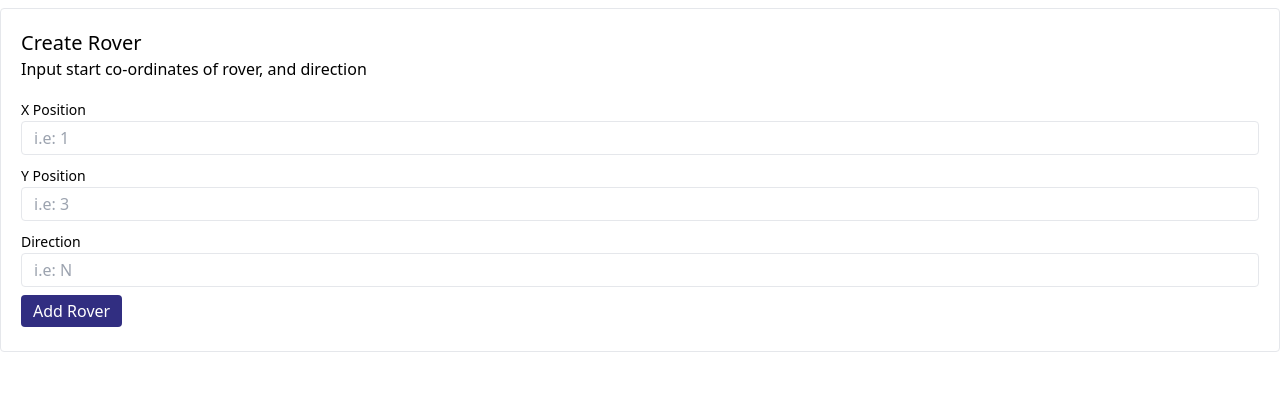
Test case: <RoverForm /> › shows an error message when no X position has been provided and "Add Rover" is clicked
The width and height of the screenshot is (1280, 415).
Type "3" into the number field labelled "Y Position" at (640, 204), box [21,187,1259,221]
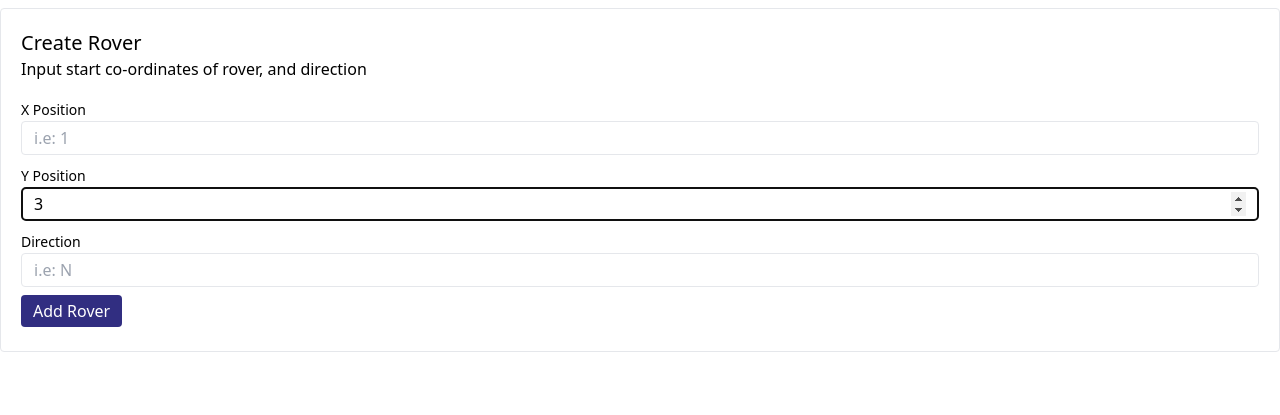
Type "N" into the field labelled "Direction" at (640, 270), box [21,253,1259,287]
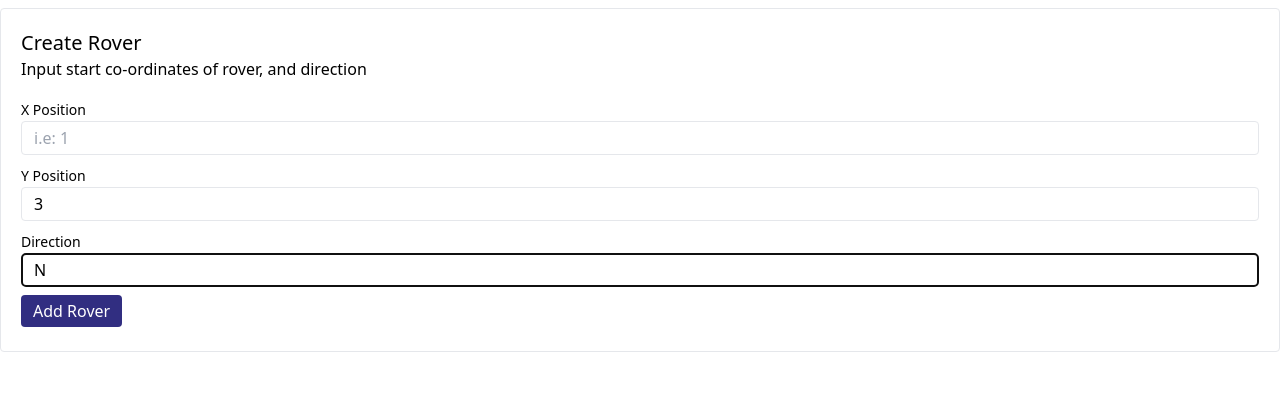
Click the button "Add Rover" at (72, 311), box [21,295,122,327]
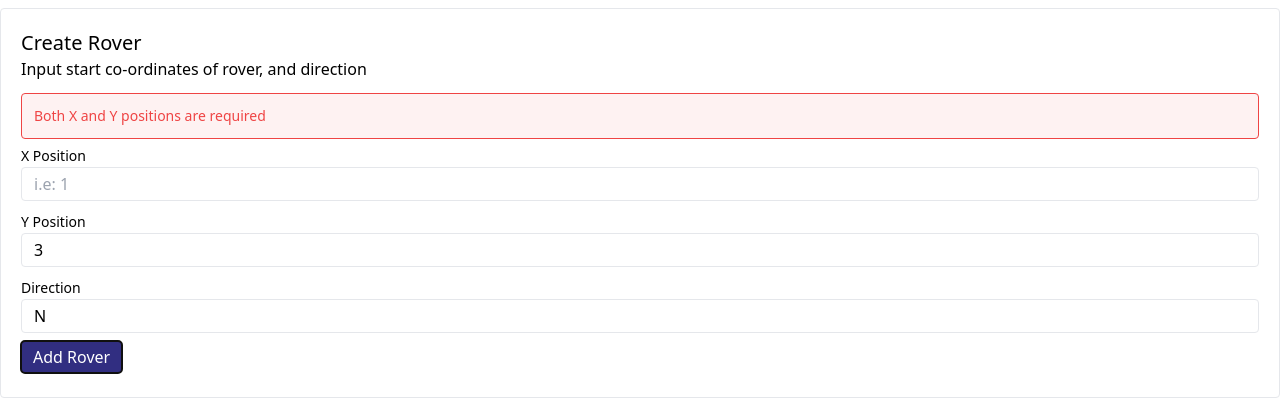
Now the message reads "Both X and Y positions are required", box [34,106,266,125]
